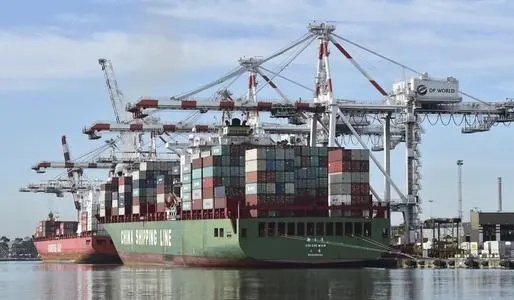Cargoship: (30, 113, 410, 263)
